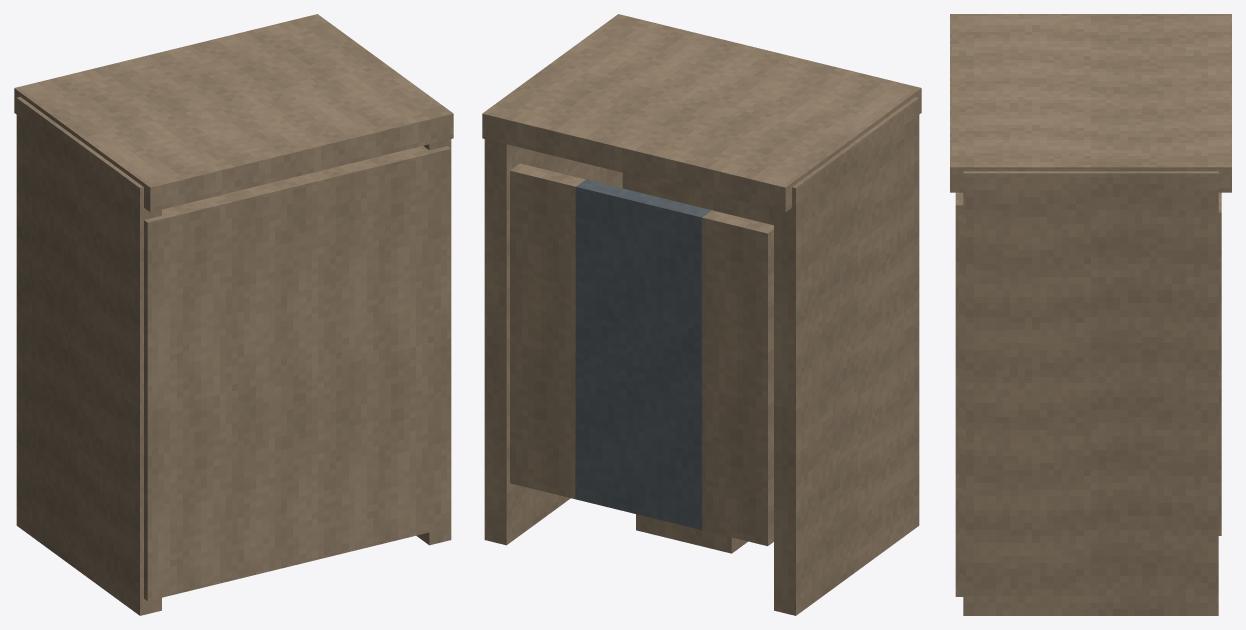
The model's file is level_blockout_confessional_screen.glb.
The picture shows the model from 3 angles, left to right: view 1: azimuth 30°, elevation 25°; view 2: azimuth 150°, elevation 25°; view 3: azimuth 270°, elevation 25°; orthographic projection. The views are drawn at different scales.
Visible parts, largest first — view 1: level_blockout_confessional_screen; view 2: level_blockout_confessional_screen; view 3: level_blockout_confessional_screen.
Boxes of the visible parts, left/top/right/bottom form: level_blockout_confessional_screen: left=14, top=14, right=453, bottom=615; level_blockout_confessional_screen: left=482, top=14, right=921, bottom=615; level_blockout_confessional_screen: left=950, top=14, right=1231, bottom=615.
Bounding box in the file's own units: 1.98 × 2.62 × 1.5.
Materials: 2 (2 with a texture image).
